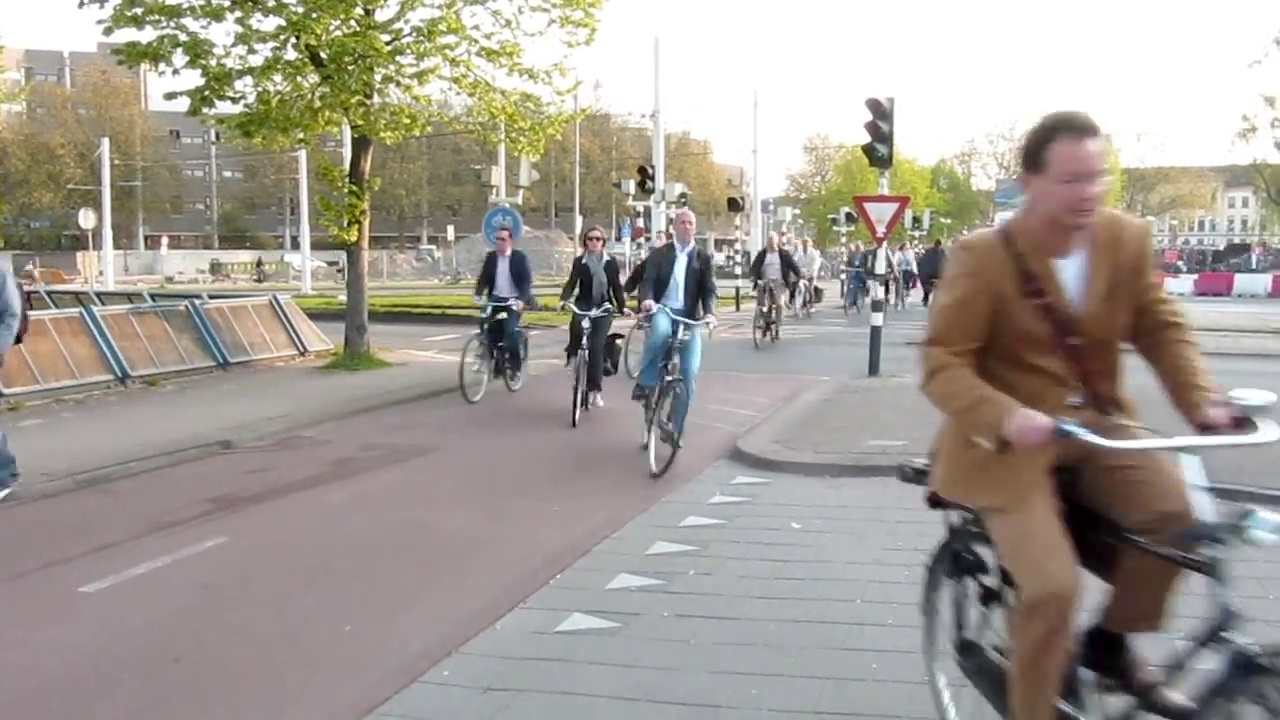cyclist_front: (633, 202, 708, 475), (462, 224, 534, 403), (565, 218, 619, 434), (750, 229, 788, 345), (792, 235, 821, 322), (839, 241, 867, 319)
